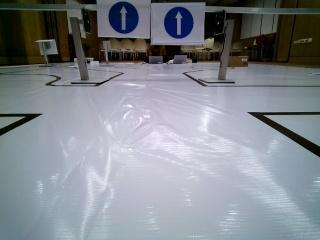straight: (151, 4, 203, 44), (98, 0, 148, 38)
